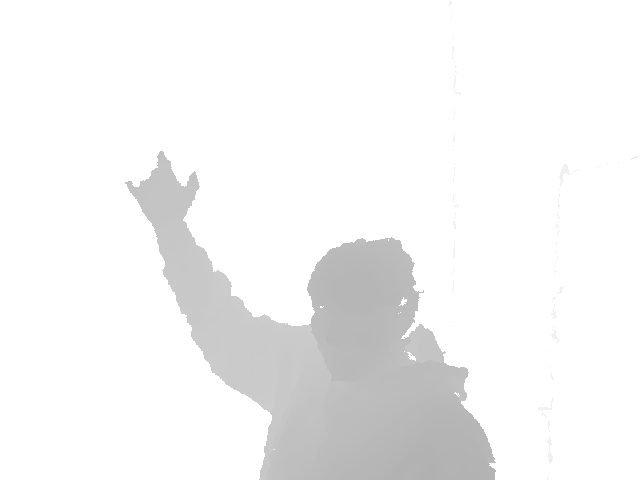hand: (123, 150, 200, 220)
head: (305, 238, 422, 387)
person: (124, 150, 498, 479)
